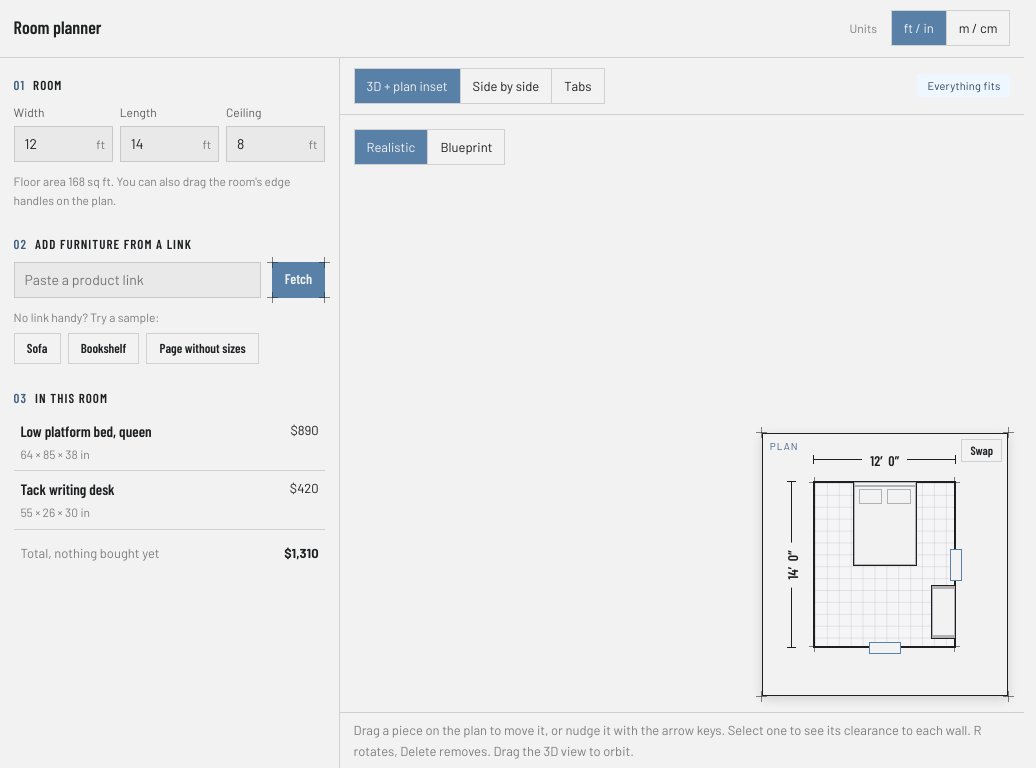
it: App › places the Sofa sample: three rows, $2,600 total, 2 conflicts
Click the button "Sofa": (37, 349) [14, 333, 61, 364]
Wait 900 ms
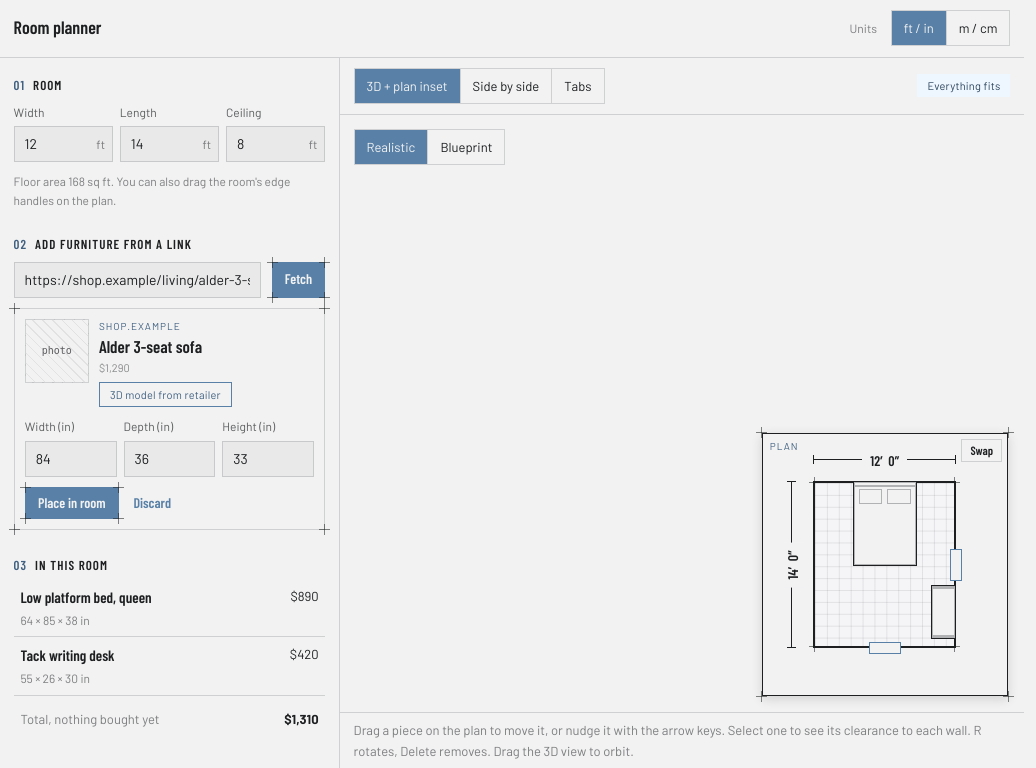
Click the button "Place in room": (72, 503) [25, 487, 119, 519]
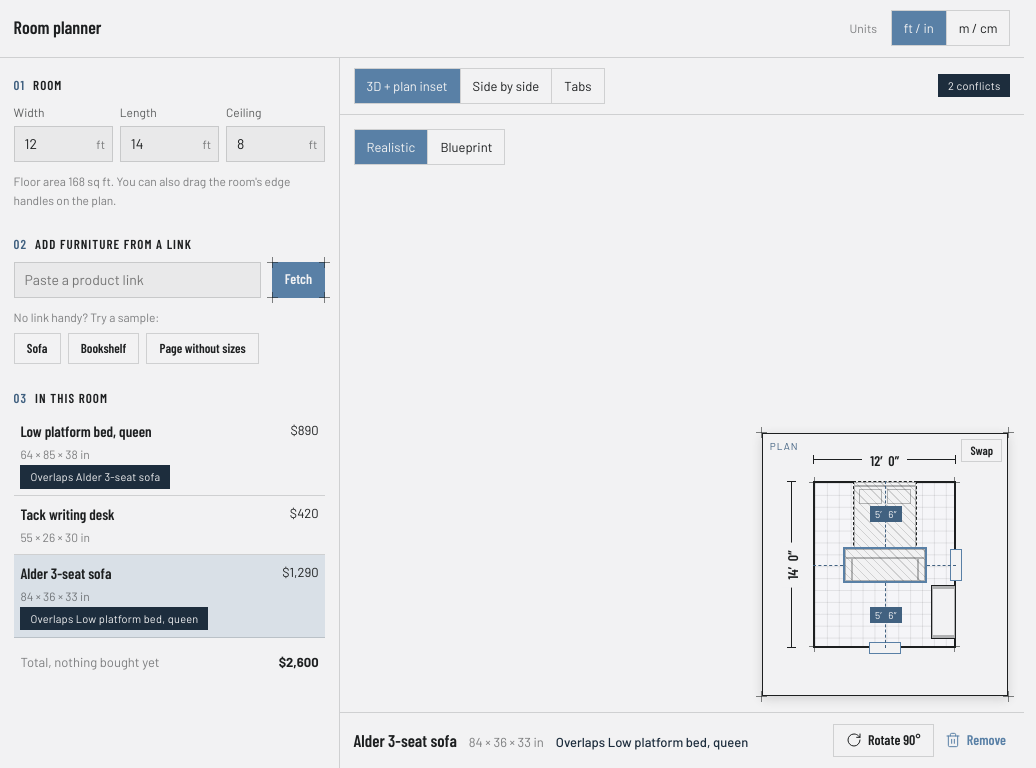
Expected: the number of buttons with class "item-row" is 3, [14, 413, 325, 496]; [14, 496, 325, 555]; [14, 555, 325, 638]
Expected: the text "$2,600" is shown, [279, 652, 319, 672]
